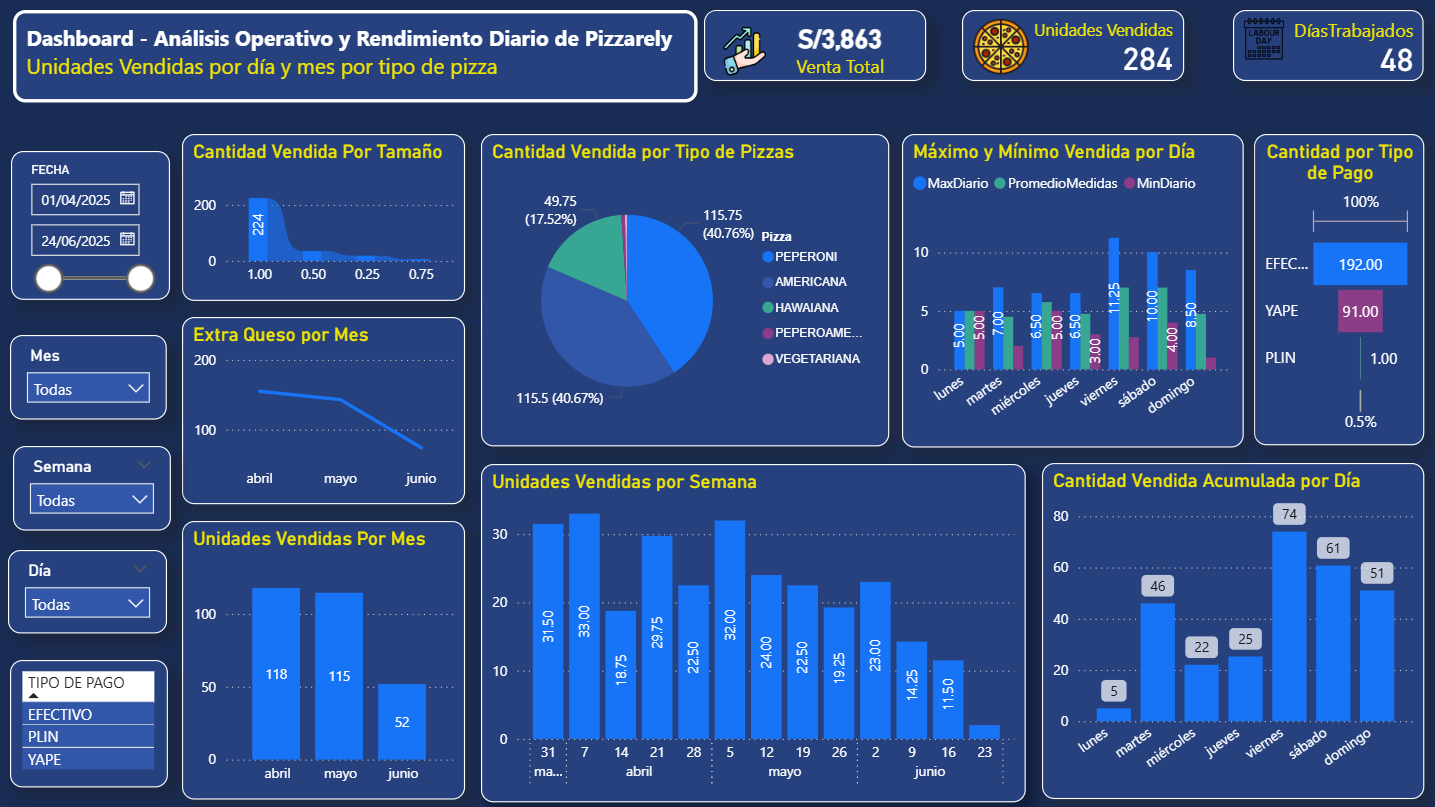

What the dashboard file says about the page in this screenshot:
{"tool":"powerbi","page":{"name":"Principal","canvas":[1280,720],"ordinal":0},"visuals":[{"type":"pieChart","title":"Cantidad Vendida por Tipo de Pizzas","fields":{"Category":["pizza (2).PIZZA"],"Y":["Sum(pizza (2).CANTIDAD TOTAL)"]},"box":[429.2,120.6,361.8,276.7],"z":0},{"type":"ribbonChart","title":"Cantidad Vendida Por Tamaño","fields":{"Category":["pizza (2).TAMAÑO"],"Y":["Sum(pizza (2).CANTIDAD TOTAL)"]},"box":[163.8,120.8,250.9,147.5],"z":1000},{"type":"clusteredColumnChart","title":"Unidades Vendidas Por Mes","fields":{"Category":["pizza (2). FECHA.Variación.Jerarquía de fechas.Mes"],"Y":["Sum(pizza (2).CANTIDAD TOTAL)"]},"box":[164,463.7,250.9,246.5],"z":2000},{"type":"tableEx","fields":{"Values":["pizza (2).TIPO DE PAGO"]},"box":[11.2,586.7,139.8,113.3],"z":3000},{"type":"funnel","title":"Cantidad por Tipo de Pago","fields":{"Category":["pizza (2).TIPO DE PAGO"],"Y":["Sum(pizza (2).CANTIDAD TOTAL)"]},"box":[1115,121,151,276],"z":4000},{"type":"lineChart","title":"Extra Queso por Mes","fields":{"Category":["pizza (2). FECHA.Variación.Jerarquía de fechas.Mes"],"Y":["CountNonNull(pizza (2).EXTRA QUESO)"]},"box":[164,282.9,250.9,165.8],"z":5000},{"type":"slicer","fields":{"Values":["pizza (2).DíaSemana"]},"box":[9.8,489.5,141,73.6],"z":6000},{"type":"lineClusteredColumnComboChart","title":"Cantidad Vendida Acumulada por Día","fields":{"Category":["pizza (2).DíaSemana"],"Y":["Sum(pizza (2).CANTIDAD TOTAL)"]},"box":[926.6,412.3,338.7,297.9],"z":7000},{"type":"clusteredColumnChart","title":"Máximo y Mínimo Vendida por Día","fields":{"Category":["pizza (2).DíaSemana"],"Y":["pizza (2).MaxDiario","pizza (2).PromedioMedidas","pizza (2).MinDiario"]},"box":[802.3,120.2,302.8,277.6],"z":8000},{"type":"slicer","fields":{"Values":["pizza (2). FECHA"]},"box":[12.1,136.1,141.1,132],"z":9000},{"type":"clusteredColumnChart","title":"Unidades Vendidas Acumulada por Semana","fields":{"Category":["pizza (2).SemanaLunes.Variación.Jerarquía de fechas.Mes","pizza (2).SemanaLunes.Variación.Jerarquía de fechas.Día"],"Y":["pizza (2).VentasSemana"]},"box":[429.2,413.2,483.3,299.7],"z":10000},{"type":"slicer","fields":{"Values":["pizza (2).SemanaLunes"]},"box":[14.1,397.1,140.1,74.6],"z":11000},{"type":"textbox","box":[14.2,10.6,606.5,82.5],"z":12000},{"type":"cardVisual","fields":{"Data":["pizza (2).DíasTrabajados"]},"box":[1096,10.6,169.4,63],"z":13000},{"type":"cardVisual","fields":{"Data":["Sum(pizza (2).PRECIO UNITARIO)"]},"box":[626.9,10.6,196.8,63],"z":14000},{"type":"cardVisual","fields":{"Data":["Sum(pizza (2).CANTIDAD TOTAL)"]},"box":[855.7,10.6,196.8,63],"z":15000},{"type":"slicer","fields":{"Values":["pizza (2). FECHA.Variación.Jerarquía de fechas.Mes"]},"box":[11.6,298.5,139.4,75.5],"z":16000}]}

Visuals, with their boxes in screenshot pixels (x1, y1, x2, y2), scaled from the page's 1280x720 canvas onto the 1435x807 screenshot:
"Cantidad Vendida por Tipo de Pizzas" pieChart: [481,135,887,445]
"Cantidad Vendida Por Tamaño" ribbonChart: [184,135,465,301]
"Unidades Vendidas Por Mes" clusteredColumnChart: [184,520,465,796]
tableEx - pizza (2).TIPO DE PAGO: [13,658,169,785]
"Cantidad por Tipo de Pago" funnel: [1250,136,1419,445]
"Extra Queso por Mes" lineChart: [184,317,465,503]
slicer - pizza (2).DíaSemana: [11,549,169,631]
"Cantidad Vendida Acumulada por Día" lineClusteredColumnComboChart: [1039,462,1419,796]
"Máximo y Mínimo Vendida por Día" clusteredColumnChart: [899,135,1239,446]
slicer - pizza (2). FECHA: [14,153,172,300]
"Unidades Vendidas Acumulada por Semana" clusteredColumnChart: [481,463,1023,799]
slicer - pizza (2).SemanaLunes: [16,445,173,529]
textbox: [16,12,696,104]
cardVisual - pizza (2).DíasTrabajados: [1229,12,1419,82]
cardVisual - Sum(pizza (2).PRECIO UNITARIO): [703,12,923,82]
cardVisual - Sum(pizza (2).CANTIDAD TOTAL): [959,12,1180,82]
slicer - pizza (2). FECHA.Variación.Jerarquía de fechas.Mes: [13,335,169,419]
